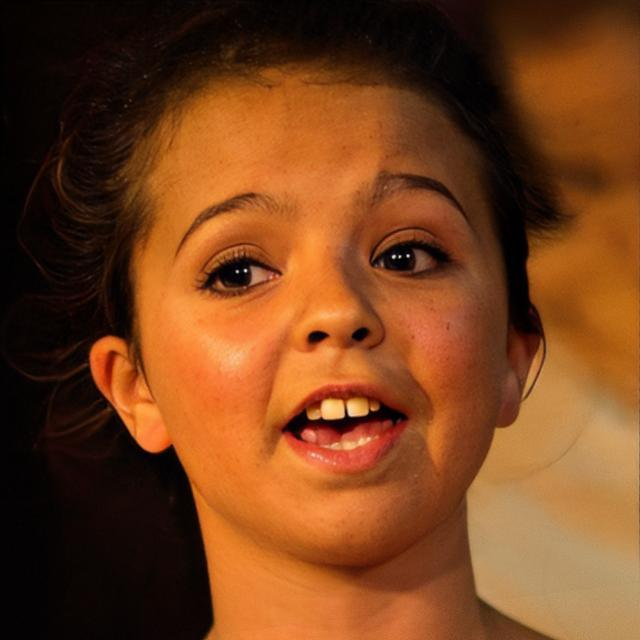surprise: (141, 68, 509, 562)
